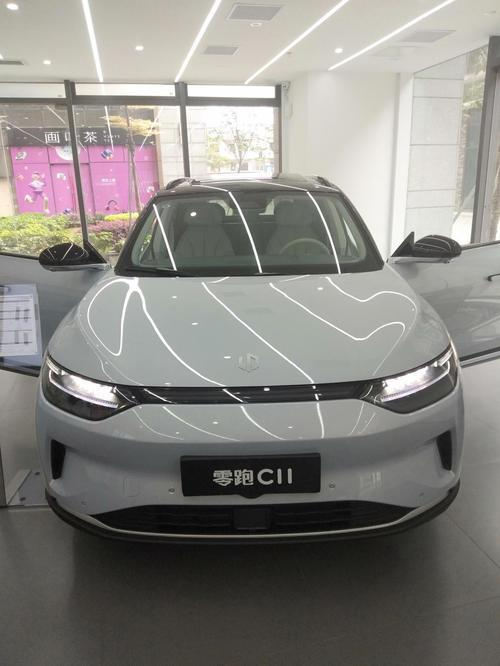LEAPMOTOR: (236, 351, 261, 374)
